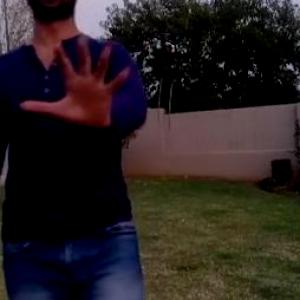follow_hand: (15, 27, 143, 135)
